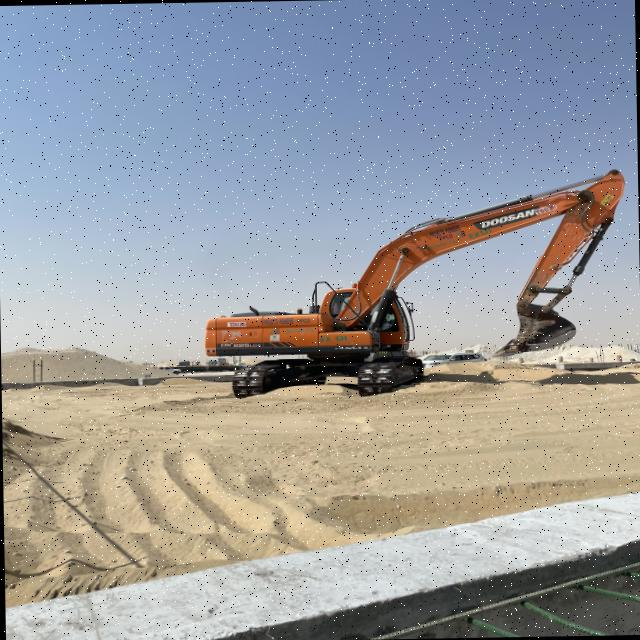Excavator: (198, 158, 630, 402)
